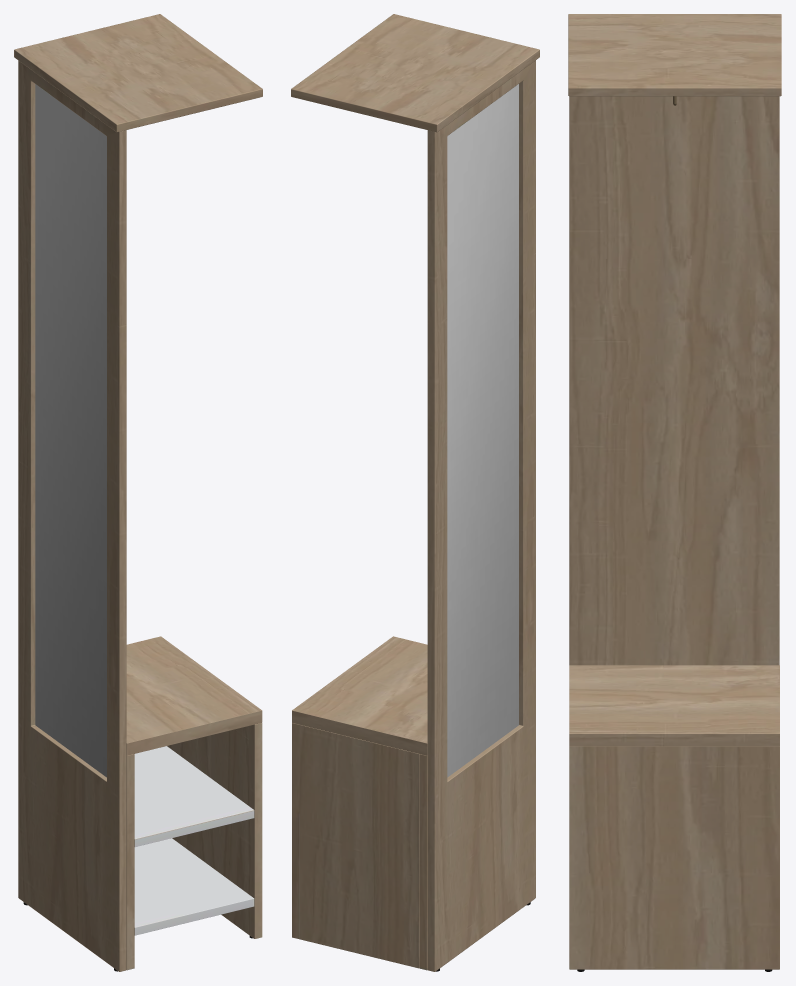
The model's file is abo-B07S24LYCY.glb.
3 renders of one model, left to right at view 1: azimuth 30°, elevation 25°; view 2: azimuth 150°, elevation 25°; view 3: azimuth 270°, elevation 25°, orthographic. The views are drawn at different scales.
Size of the model in its own units: 0.338 by 1.88 by 0.4111.
1 material, 1 textured.
